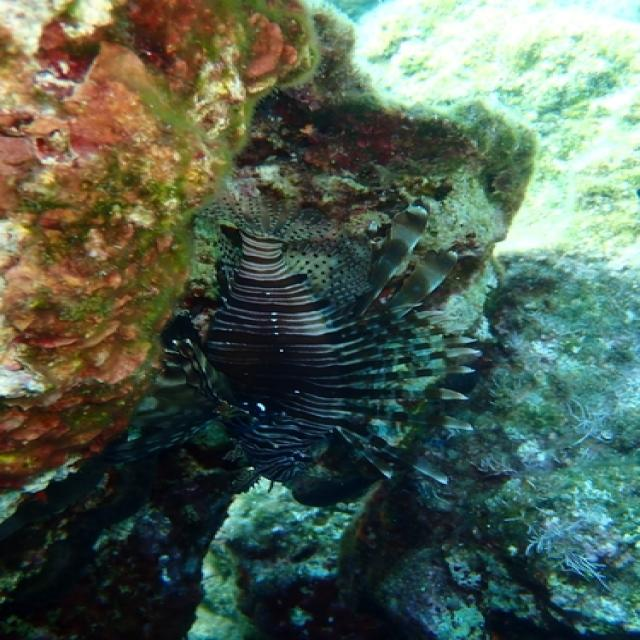Aslan Baligi: (165, 172, 507, 529)
